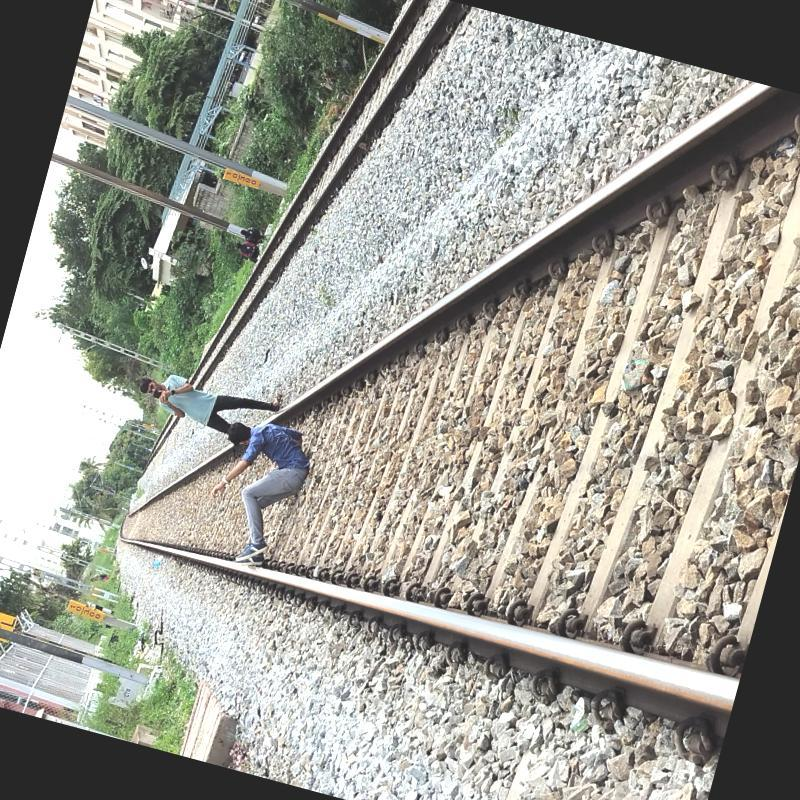sleeping: (199, 399, 329, 574)
